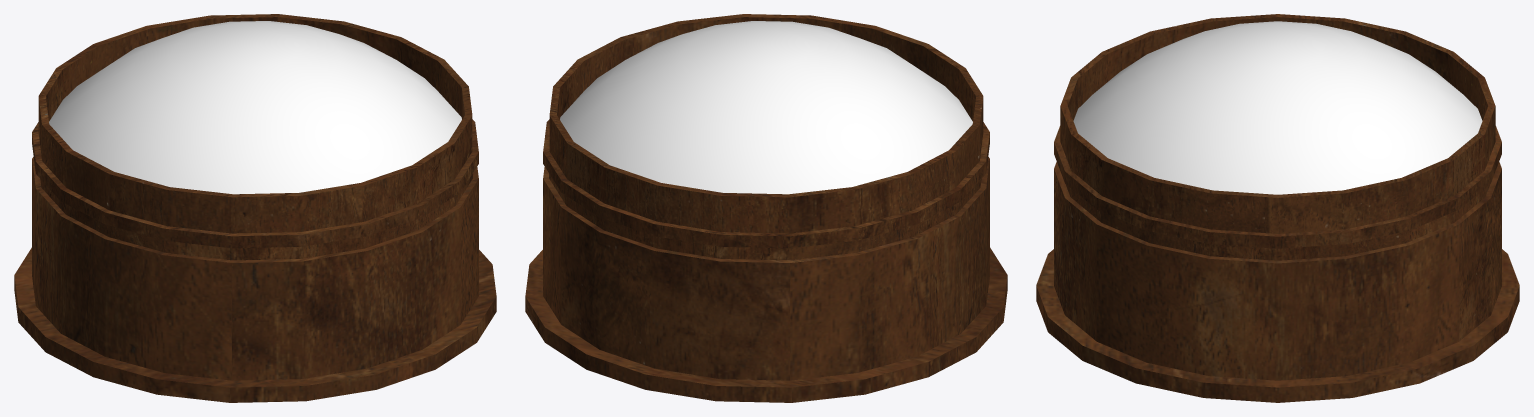
File: Relic_Compass.fbx
The picture shows the model from 3 angles, left to right: view 1: azimuth 30°, elevation 25°; view 2: azimuth 150°, elevation 25°; view 3: azimuth 270°, elevation 25°; orthographic projection.
Visible parts, largest first — view 1: polySurface1; view 2: polySurface1; view 3: polySurface1.
Boxes of the visible parts, <box> form: polySurface1: <box>14,14,496,402</box>; polySurface1: <box>525,14,1007,402</box>; polySurface1: <box>1036,14,1519,402</box>.
Bounding box in the file's own units: 2.39 × 1.38 × 2.39.
3 materials, 2 textured.
